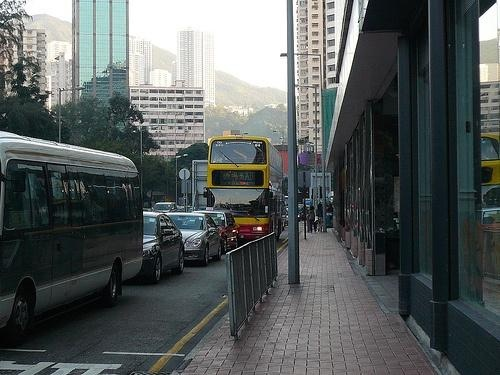bus: (1, 134, 147, 340), (206, 137, 287, 247)
car: (139, 207, 188, 287), (168, 209, 222, 266), (211, 206, 243, 255)
